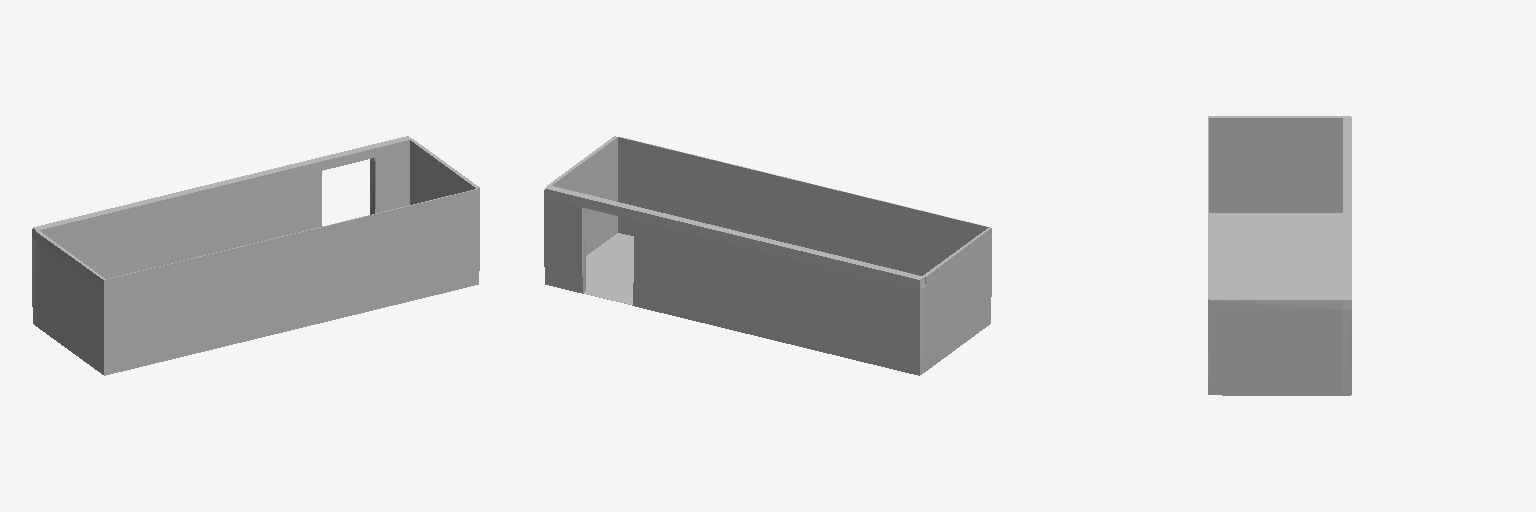
Rendered from br_walls.obj.
The picture shows the model from 3 angles: view 1: azimuth 30°, elevation 25°; view 2: azimuth 150°, elevation 25°; view 3: azimuth 270°, elevation 25°; orthographic projection.
Visible parts, largest first — view 1: Bowling_Alley_Plane.002; view 2: Bowling_Alley_Plane.002; view 3: Bowling_Alley_Plane.002.
Part boxes in pixels (x1,y1,x2,y2): Bowling_Alley_Plane.002: (32,136,479,375); Bowling_Alley_Plane.002: (544,136,991,375); Bowling_Alley_Plane.002: (1208,116,1351,395).
Size of the model in its own units: 41.88 by 10.17 by 13.85.